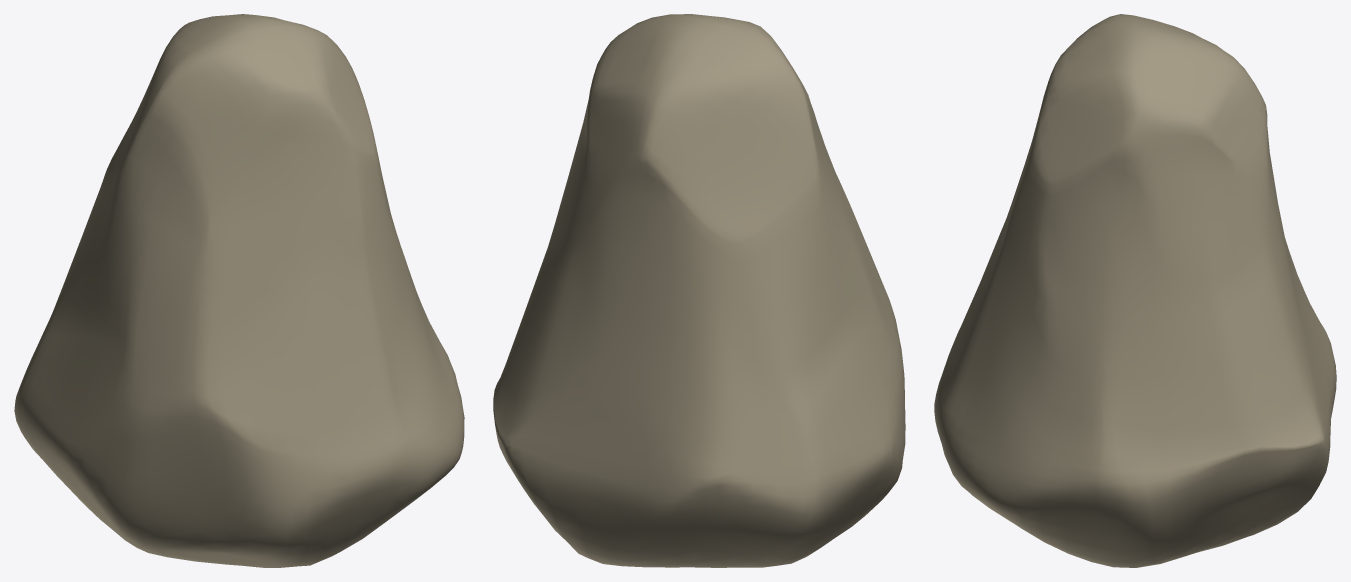
File: Rock-BvlfuHFAuI.glb
3 renders of one model, left to right at view 1: azimuth 30°, elevation 25°; view 2: azimuth 150°, elevation 25°; view 3: azimuth 270°, elevation 25°, orthographic. The views are drawn at different scales.
Visible parts, largest first — view 1: Environment_Rock_2; view 2: Environment_Rock_2; view 3: Environment_Rock_2.
Part boxes in pixels (x1,y1,x2,y2): Environment_Rock_2: [14, 14, 464, 567]; Environment_Rock_2: [493, 14, 905, 567]; Environment_Rock_2: [934, 14, 1336, 567].
Size of the model in its own units: 0.7832 by 1.05 by 0.7585.
1 material, 1 textured.
